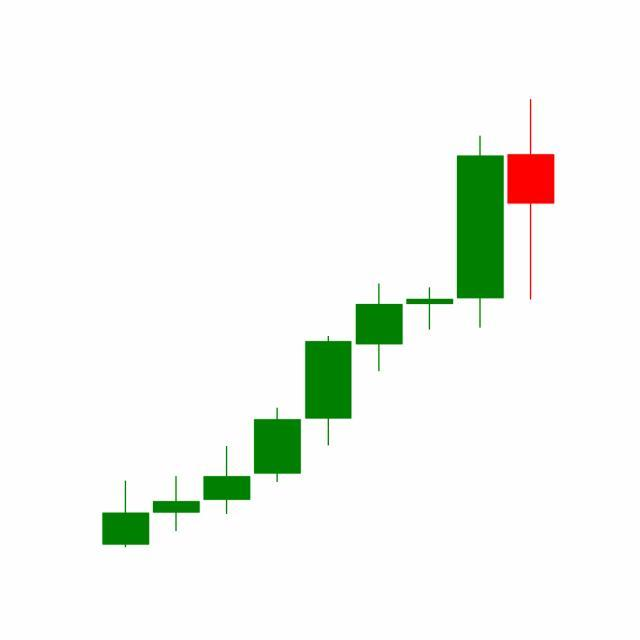Hikkake Pattern: (252, 133, 506, 487)
